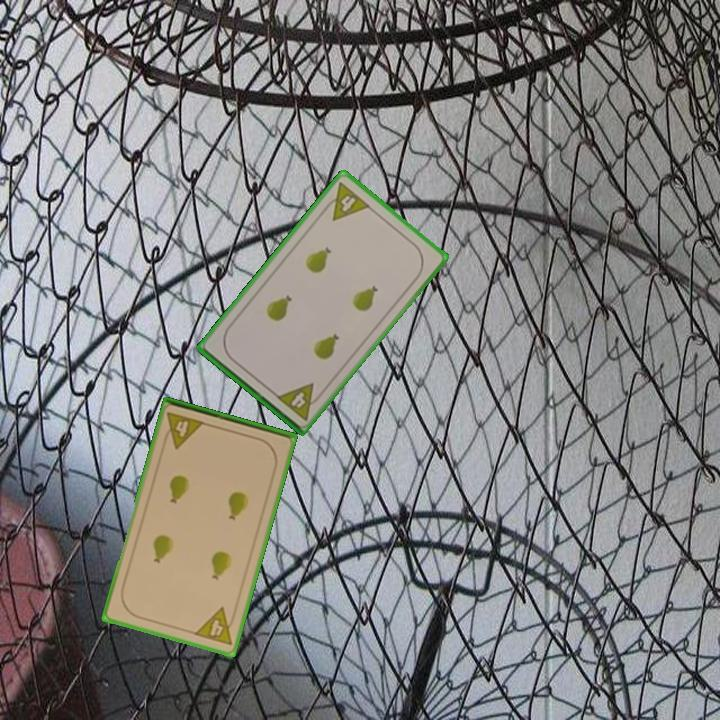4p: (319, 178, 373, 223), (272, 379, 326, 423), (191, 604, 240, 648), (159, 408, 207, 451)
